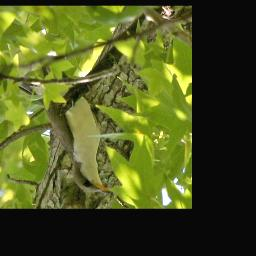Cuckoo: (18, 66, 114, 197)
